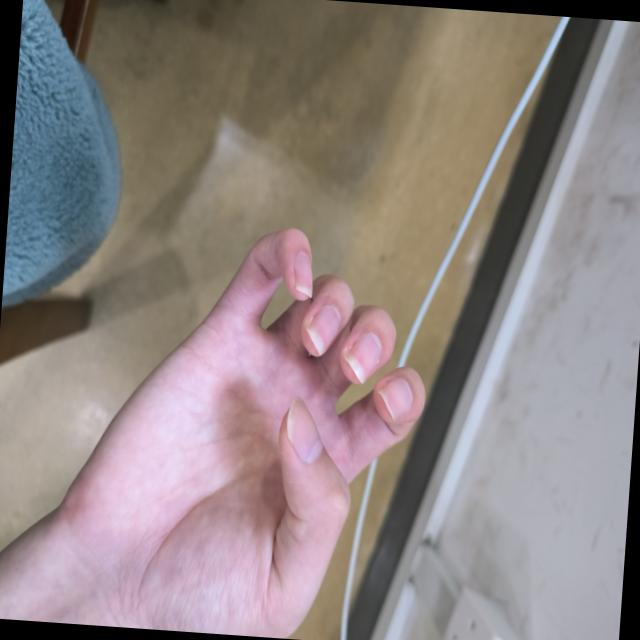Nail: (286, 396, 321, 463), (343, 333, 380, 383), (305, 306, 339, 356), (378, 377, 411, 420), (293, 253, 311, 297)
